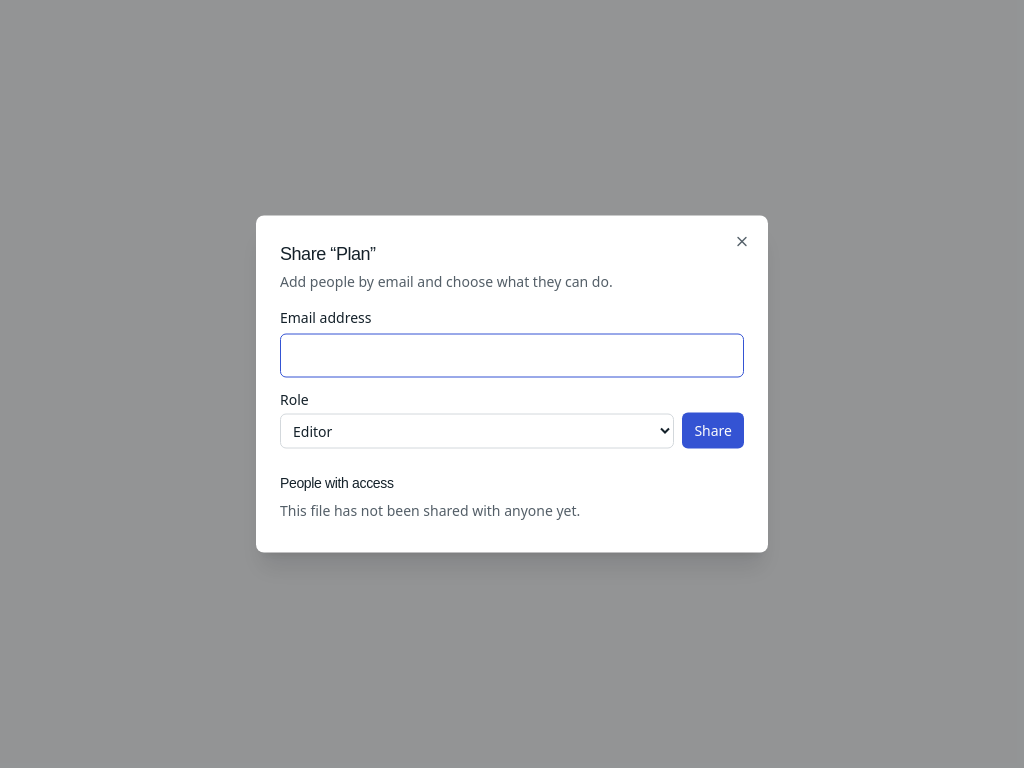
it: ShareDialog › shows a translated message when the user does not exist
Expected: the text "This file has not been shared with anyone yet." is shown, [280,500,580,520]
In the field labelled "Email address": (512, 356) [280,334,744,378], type "ghost@example.com"
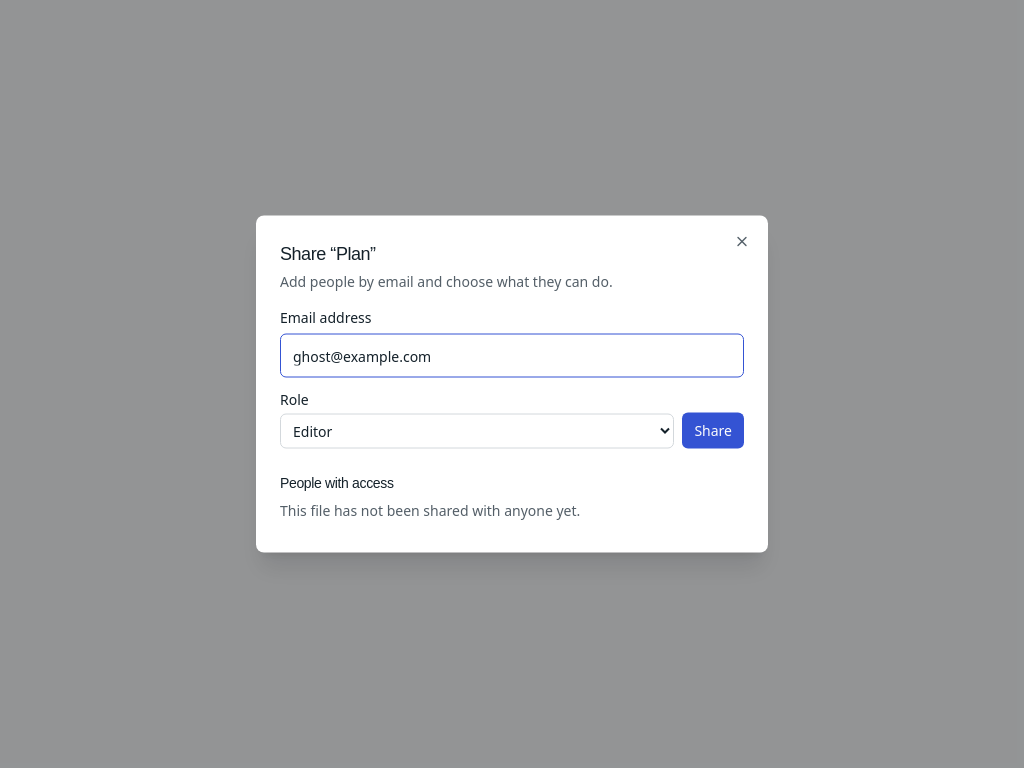
Click the button "Share": (713, 430) [682,412,744,448]
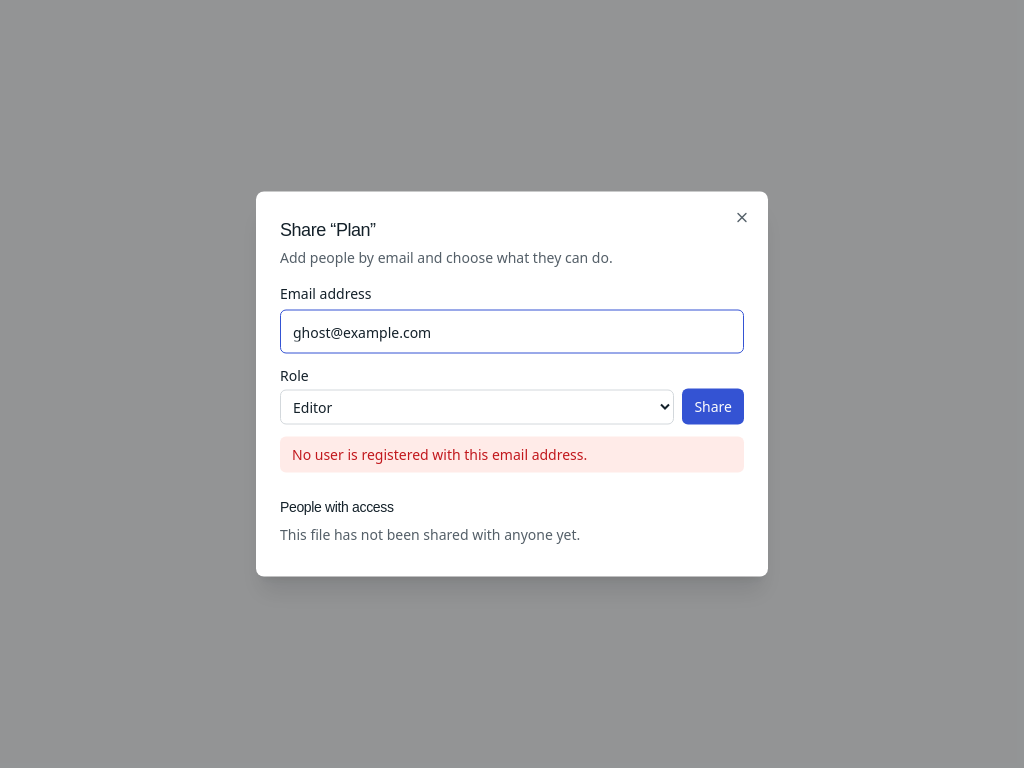
Expected: the text "No user is registered with this email address." is shown, [280,436,744,472]
